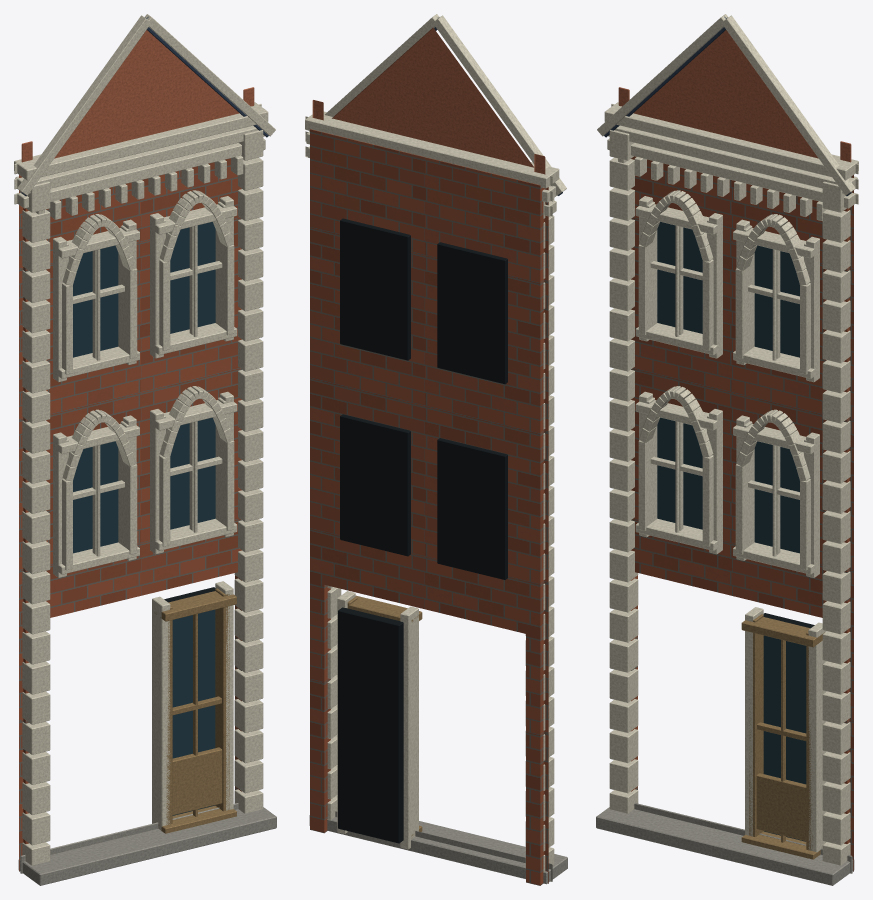
The model's file is VICT34_lod1.glb.
3 views of the same model, side by side, from view 1: azimuth 30°, elevation 25°; view 2: azimuth 150°, elevation 25°; view 3: azimuth 330°, elevation 25° (orthographic).
Visible parts, largest first — view 1: VICT34_FRONT_LOD1; view 2: VICT34_FRONT_LOD1; view 3: VICT34_FRONT_LOD1.
Part boxes in pixels (<box>): VICT34_FRONT_LOD1: <box>14,14,276,885</box>; VICT34_FRONT_LOD1: <box>305,14,567,885</box>; VICT34_FRONT_LOD1: <box>596,14,858,885</box>.
Bounding box in the file's own units: 3.53 × 11.05 × 0.68.
9 materials, 7 textured.
